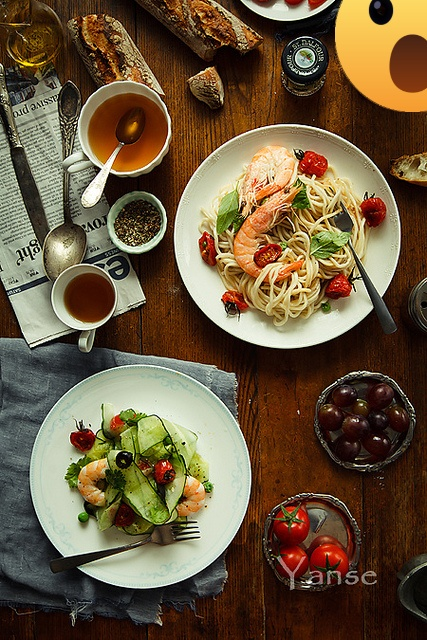wow: (335, 0, 427, 112)
